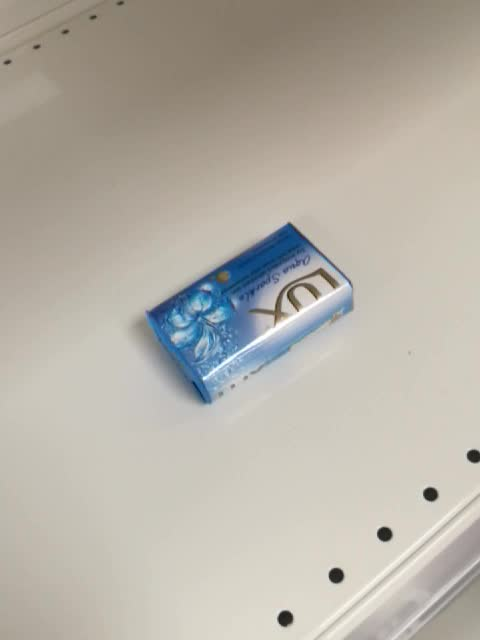soap: (144, 220, 354, 406)
